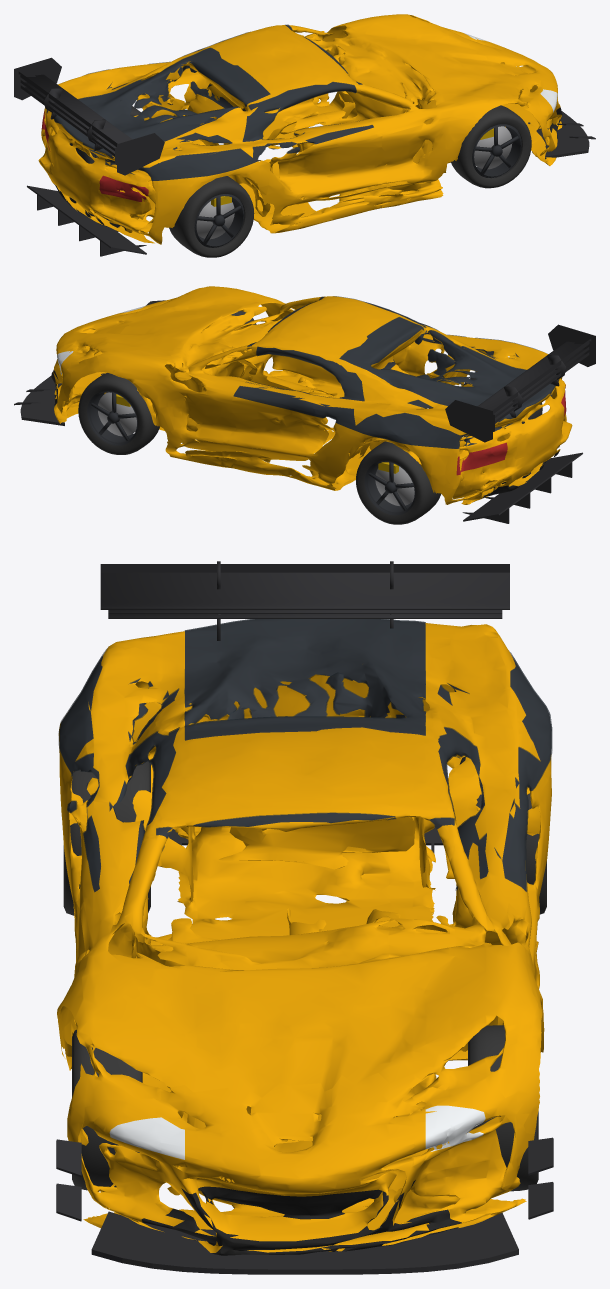
The model's file is chevrolet_corvette_z06.glb.
3 views of the same model, one above another, from view 1: azimuth 30°, elevation 25°; view 2: azimuth 150°, elevation 25°; view 3: azimuth 270°, elevation 25° (orthographic). The views are drawn at different scales.
Parts seen in each view (by area): view 1: body, cabin, bumper_rear, wheel_rr_spin, wheel_fr_spin, bumper_front, wing_rear_up3, diffuser, splitter_up, wing_rear, wing_rear_up2, splitter; view 2: body, cabin, bumper_rear, wheel_rl_spin, wheel_fl_spin, wing_rear_up3, bumper_front, diffuser, splitter, wing_rear, wing_rear_up2, splitter_up; view 3: body, bumper_front, cabin, wing_rear_up3, splitter_up, bumper_rear, splitter, canards, wheel_fr_spin, wheel_rr_spin, wheel_fl_spin, wing_rear (+2 smaller).
Boxes of the visible parts, x1,y1,x2,y2 form: body: (51, 14, 549, 241); cabin: (46, 24, 373, 180); bumper_rear: (38, 87, 163, 244); wheel_rr_spin: (169, 176, 254, 257); wheel_fr_spin: (451, 105, 531, 188); bumper_front: (444, 28, 562, 165); wing_rear_up3: (14, 57, 164, 175); diffuser: (27, 185, 146, 256); splitter_up: (528, 111, 589, 159); wing_rear: (16, 78, 116, 164); wing_rear_up2: (16, 70, 116, 159); splitter: (538, 116, 582, 154); body: (63, 286, 556, 504); cabin: (233, 296, 558, 448); bumper_rear: (444, 377, 572, 504); wheel_rl_spin: (356, 441, 440, 524); wheel_fl_spin: (78, 373, 159, 454); wing_rear_up3: (445, 324, 595, 442); bumper_front: (51, 300, 167, 423); diffuser: (462, 452, 582, 523); splitter: (27, 380, 61, 420); wing_rear: (493, 345, 593, 431); wing_rear_up2: (493, 337, 593, 428); splitter_up: (20, 373, 104, 425); body: (57, 637, 551, 1204); bumper_front: (78, 1073, 534, 1255); cabin: (58, 619, 552, 891); wing_rear_up3: (100, 561, 509, 640); splitter_up: (91, 1211, 518, 1274); bumper_rear: (106, 619, 512, 792); splitter: (99, 1215, 511, 1264); canards: (56, 1137, 553, 1221); wheel_fr_spin: (72, 1029, 142, 1190); wheel_rr_spin: (63, 758, 150, 915); wheel_fl_spin: (468, 1025, 538, 1191); wing_rear: (108, 614, 502, 618).
Bounding box in the file's own units: 4.77 × 1.25 × 2.1.
